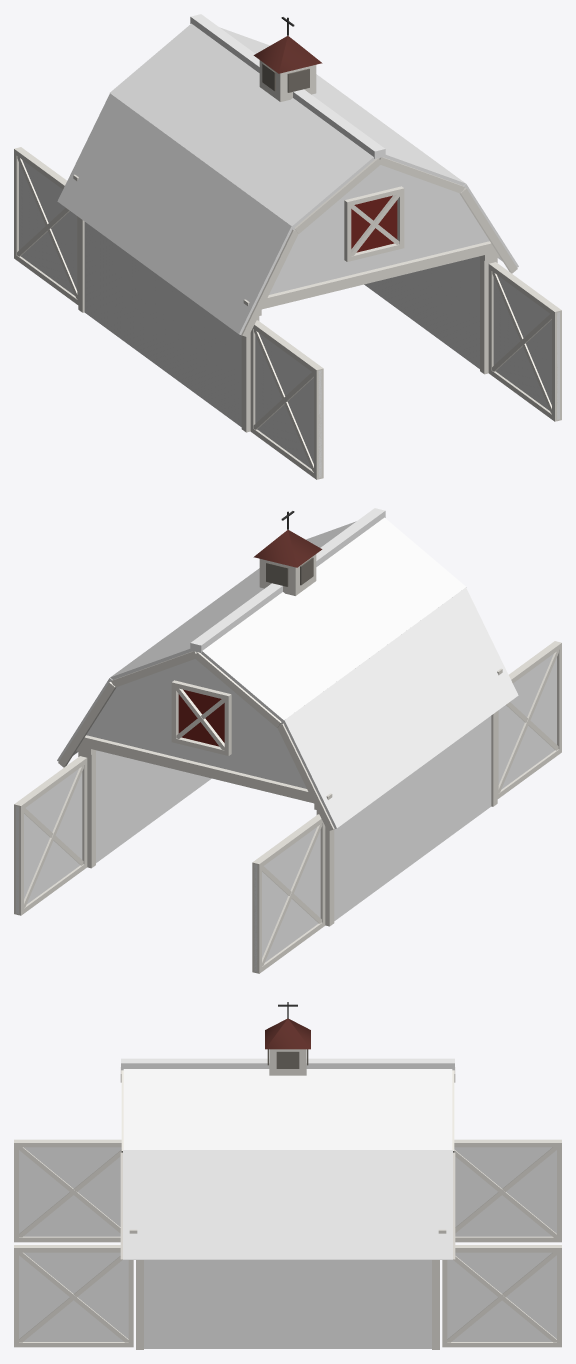
The model's file is barn.glb.
3 renders of one model, top to bottom at view 1: azimuth 30°, elevation 25°; view 2: azimuth 150°, elevation 25°; view 3: azimuth 270°, elevation 25°, orthographic. The views are drawn at different scales.
Visible parts, largest first — view 1: roof-shingles, walls, roof-trim, trim, roof-gables; view 2: roof-shingles, walls, roof-trim, trim, roof-gables; view 3: roof-shingles, walls, trim, roof-trim.
Boxes of the visible parts, left/top/right/bottom form: roof-shingles: left=57, top=14, right=518, bottom=335; walls: left=19, top=160, right=559, bottom=477; roof-trim: left=73, top=17, right=517, bottom=337; trim: left=14, top=147, right=561, bottom=479; roof-gables: left=269, top=165, right=489, bottom=294; roof-shingles: left=57, top=508, right=518, bottom=829; walls: left=16, top=654, right=556, bottom=971; roof-trim: left=58, top=511, right=502, bottom=831; trim: left=14, top=641, right=561, bottom=973; roof-gables: left=86, top=659, right=306, bottom=788; roof-shingles: left=121, top=1058, right=454, bottom=1259; walls: left=19, top=1147, right=556, bottom=1348; trim: left=14, top=1139, right=561, bottom=1349; roof-trim: left=120, top=1002, right=455, bottom=1259.
Size of the model in its own units: 11.74 by 12.94 by 22.
